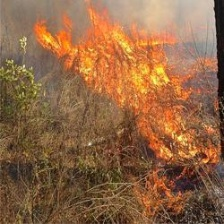fire: (44, 15, 221, 186)
